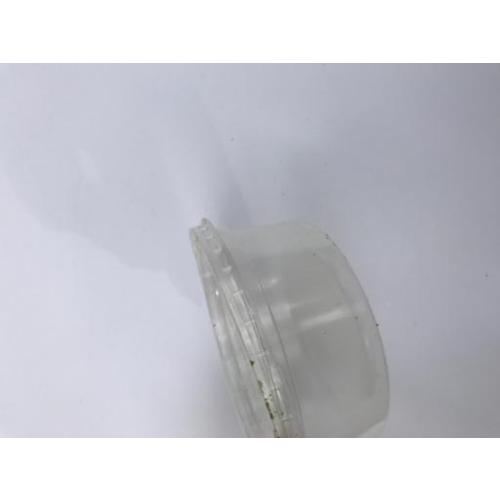plastic: (190, 216, 390, 439)
